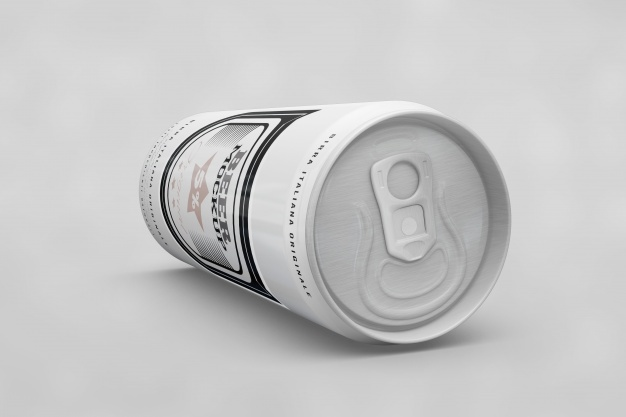can: (122, 93, 537, 379)
